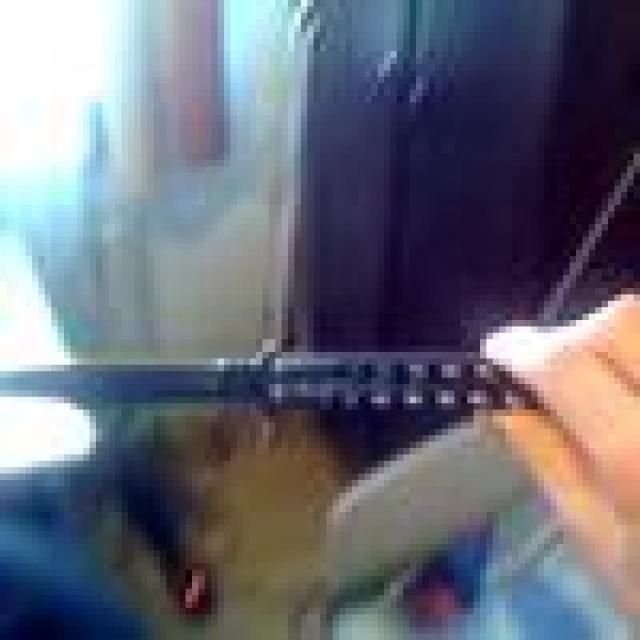knife: (1, 349, 493, 411)
